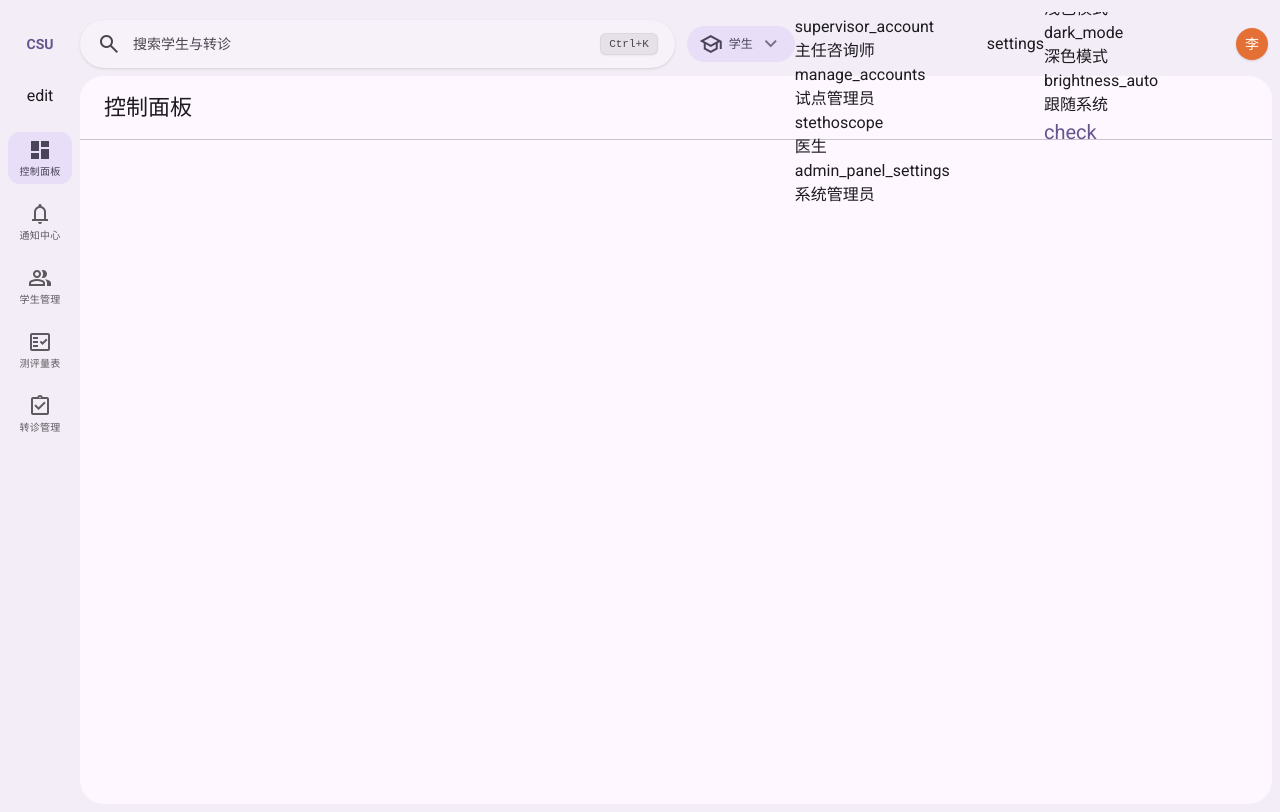
Page Navigation with 测评量表 › renders 测评量表 tab in TeacherPage and navigates to it
Click the text "测评量表".
click(40, 364)  # box x1=20 y1=358 x2=60 y2=369
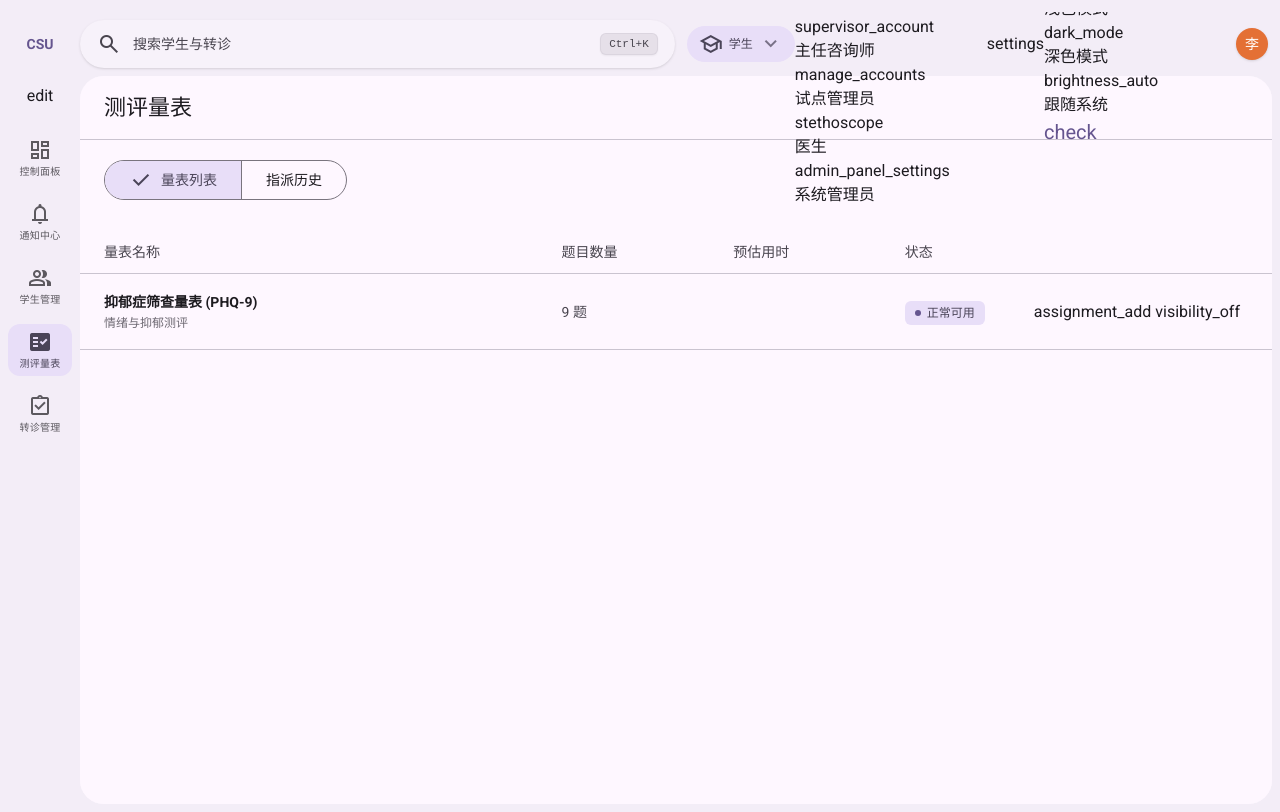
Now the text "量表列表" is shown, box x1=129 y1=168 x2=217 y2=192
